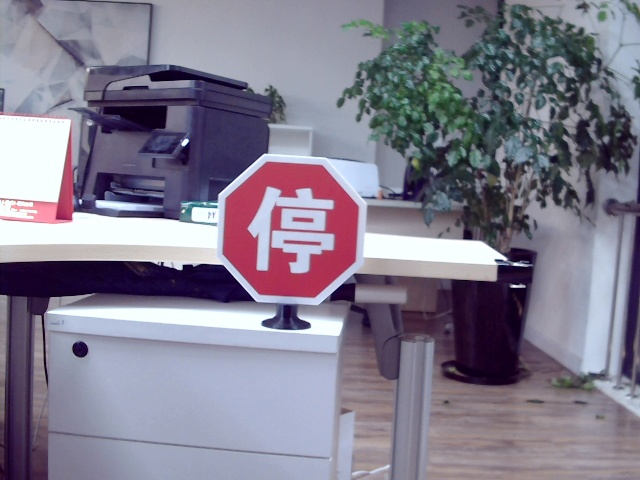stop: (247, 184, 335, 272)
